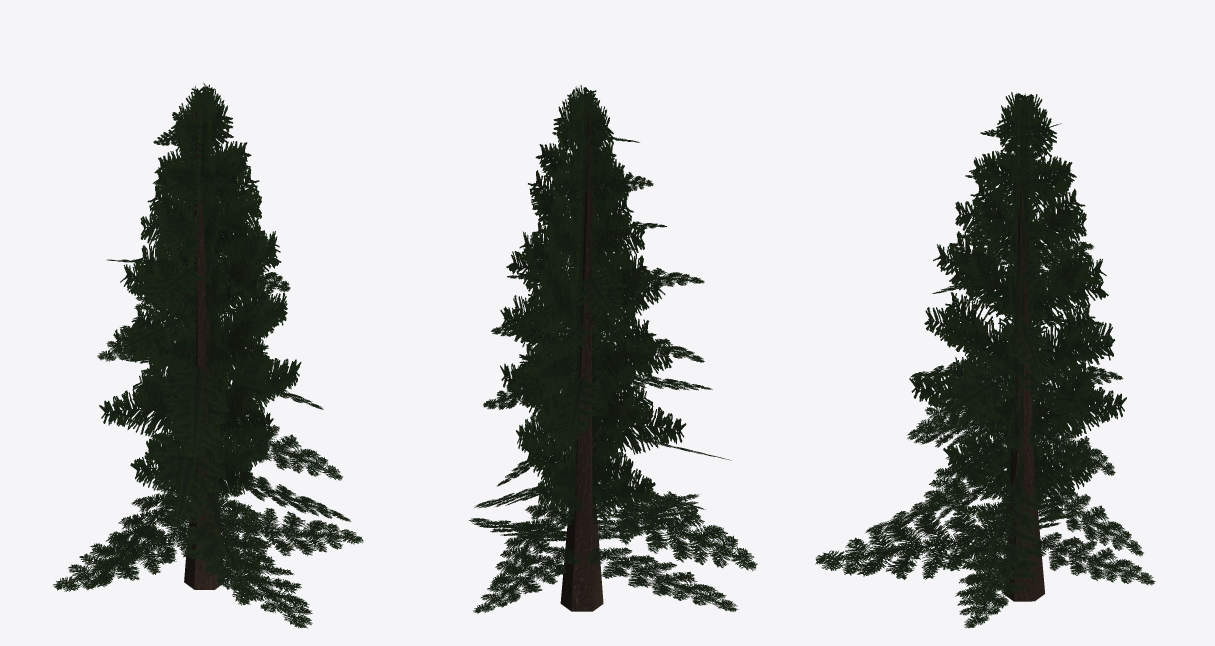
Rendered from pine_c_lod.glb.
3 views of the same model, side by side, from view 1: azimuth 30°, elevation 25°; view 2: azimuth 150°, elevation 25°; view 3: azimuth 270°, elevation 25° (orthographic). The views are drawn at different scales.
Visible parts, largest first — view 1: pine_c_lod_pine_needles_c, pine_c_lod_bark_pine; view 2: pine_c_lod_pine_needles_c, pine_c_lod_bark_pine; view 3: pine_c_lod_pine_needles_c, pine_c_lod_bark_pine.
Part boxes in pixels (left/top/right/bottom): pine_c_lod_pine_needles_c: left=53, top=83, right=363, bottom=628; pine_c_lod_bark_pine: left=184, top=110, right=224, bottom=589; pine_c_lod_pine_needles_c: left=468, top=85, right=757, bottom=613; pine_c_lod_bark_pine: left=560, top=112, right=603, bottom=611; pine_c_lod_pine_needles_c: left=815, top=92, right=1155, bottom=628; pine_c_lod_bark_pine: left=1003, top=114, right=1045, bottom=601.
Bounding box in the file's own units: 6.7 × 10 × 7.01.
Materials: 2 (2 with a texture image).
